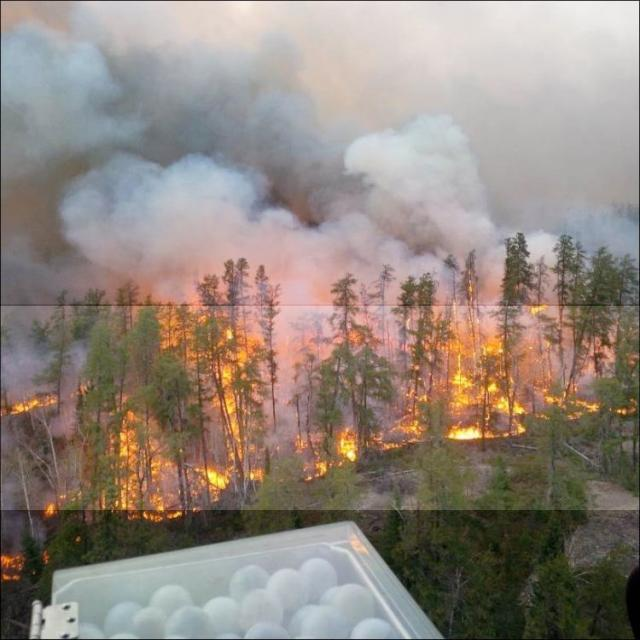Fire: (0, 306, 640, 510)
Smoke: (0, 0, 640, 304)
